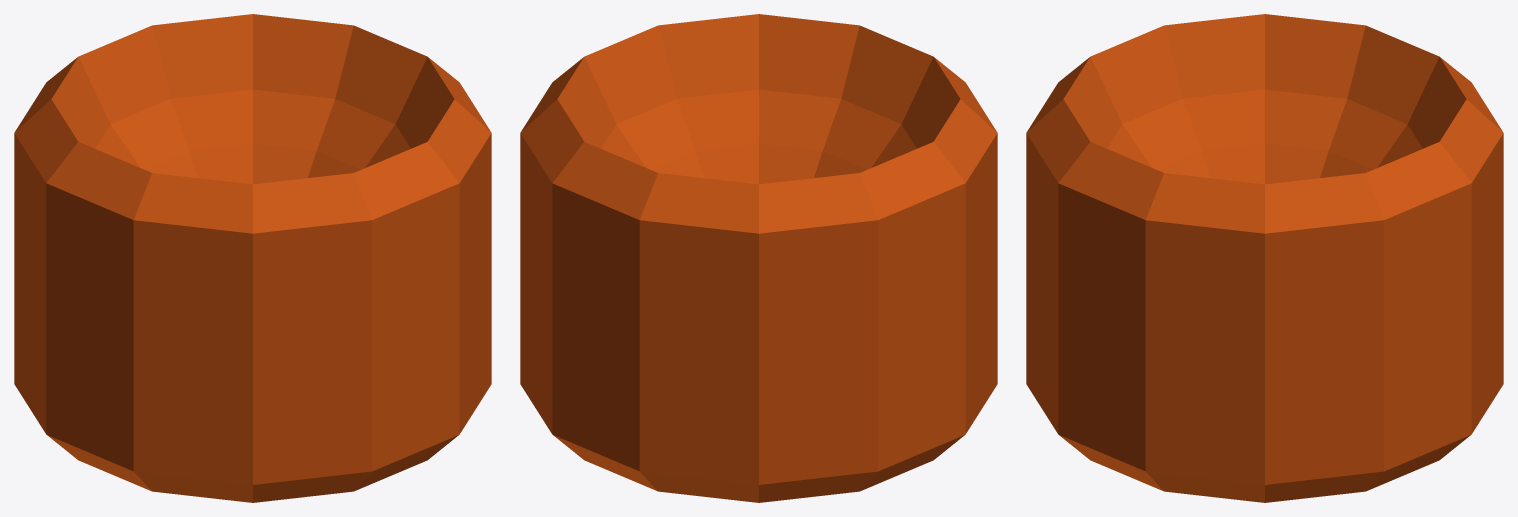
Rendered from Wheel5.OBJ.
3 renders of one model, left to right at view 1: azimuth 30°, elevation 25°; view 2: azimuth 150°, elevation 25°; view 3: azimuth 270°, elevation 25°, orthographic.
Visible parts, largest first — view 1: Wheel5_Wheel1.002; view 2: Wheel5_Wheel1.002; view 3: Wheel5_Wheel1.002.
Boxes of the visible parts, x1,y1,x2,y2 form: Wheel5_Wheel1.002: (14, 14, 491, 502); Wheel5_Wheel1.002: (520, 14, 997, 502); Wheel5_Wheel1.002: (1026, 14, 1503, 502).
Bounding box in the file's own units: 0.5092 × 0.375 × 0.5092.
